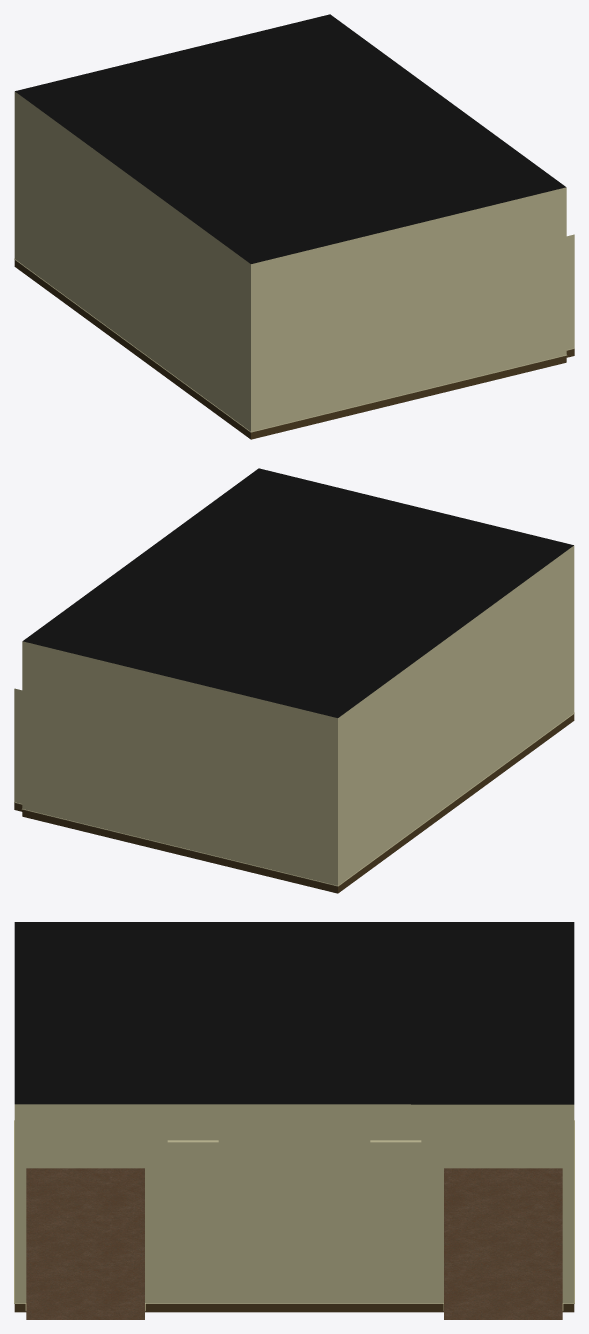
The model's file is Room02.FBX.
The picture shows the model from 3 angles, top to bottom: view 1: azimuth 30°, elevation 25°; view 2: azimuth 150°, elevation 25°; view 3: azimuth 270°, elevation 25°; orthographic projection. The views are drawn at different scales.
Parts seen in each view (by area): view 1: Room02_Wall, Room02_Ceiling; view 2: Room02_Wall, Room02_Ceiling; view 3: Room02_Ceiling, Room02_Wall, Room02_Floor.
Boxes of the visible parts, x1=… form: Room02_Wall: x1=14, y1=91, x2=574, y2=439; Room02_Ceiling: x1=15, y1=14, x2=565, y2=263; Room02_Wall: x1=14, y1=545, x2=574, y2=893; Room02_Ceiling: x1=23, y1=468, x2=573, y2=717; Room02_Ceiling: x1=14, y1=922, x2=574, y2=1104; Room02_Wall: x1=14, y1=1104, x2=574, y2=1312; Room02_Floor: x1=26, y1=1168, x2=562, y2=1319.
Size of the model in its own units: 9658 by 4919 by 12037.
